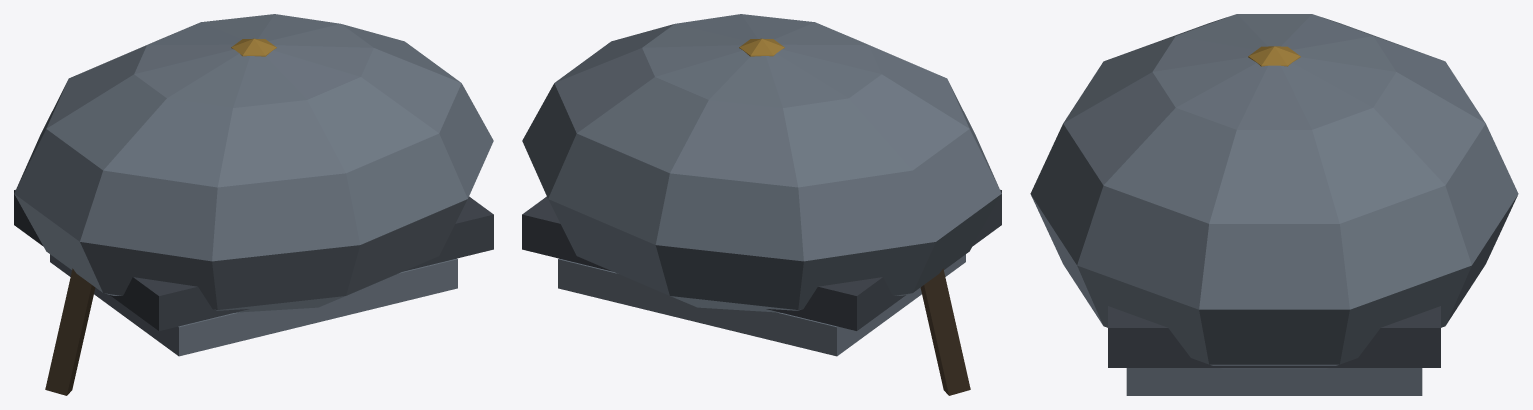
Rendered from pauldron.glb.
The picture shows the model from 3 angles, left to right: view 1: azimuth 30°, elevation 25°; view 2: azimuth 150°, elevation 25°; view 3: azimuth 270°, elevation 25°; orthographic projection. The views are drawn at different scales.
Parts seen in each view (by area): view 1: m; view 2: m; view 3: m.
Boxes of the visible parts, <box> form: m: <box>14,14,493,395</box>; m: <box>522,14,1001,395</box>; m: <box>1030,14,1518,395</box>.
Size of the model in its own units: 0.14 by 0.0988 by 0.124.
